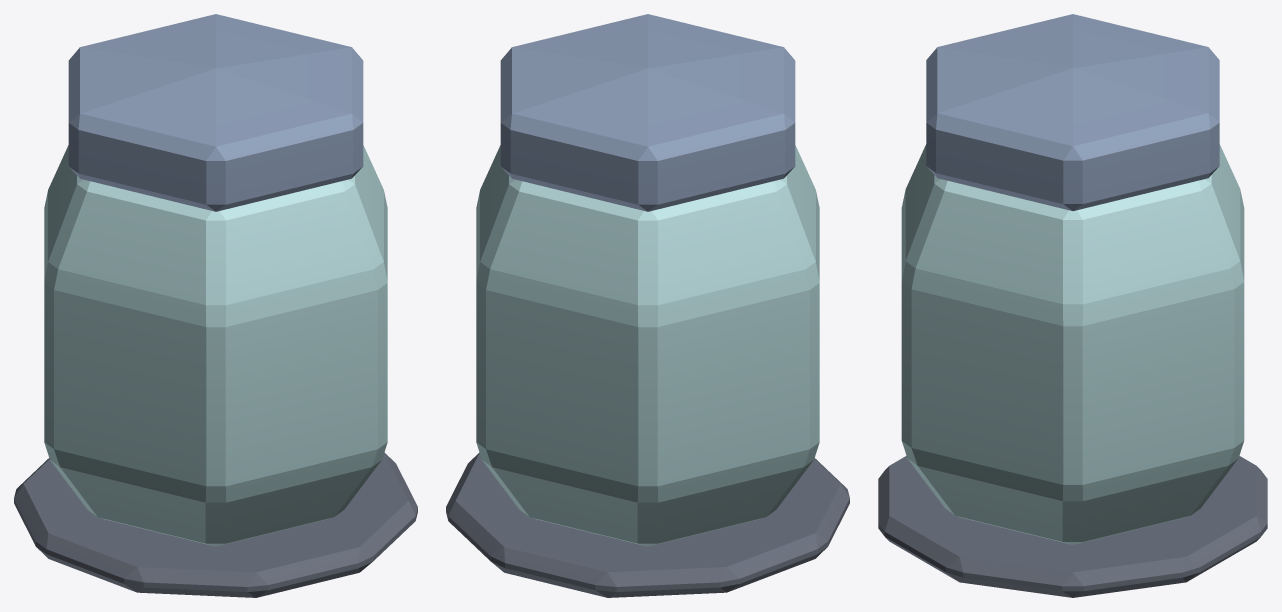
The model's file is specimen_jar.glb.
3 views of the same model, side by side, from view 1: azimuth 30°, elevation 25°; view 2: azimuth 150°, elevation 25°; view 3: azimuth 270°, elevation 25° (orthographic).
Parts seen in each view (by area): view 1: specimen_jar; view 2: specimen_jar; view 3: specimen_jar.
Part boxes in pixels (x1,y1,x2,y2): specimen_jar: (14,14,417,597); specimen_jar: (446,14,849,597); specimen_jar: (878,14,1267,597).
Bounding box in the file's own units: 0.2851 × 0.35 × 0.2758.
1 material, 1 textured.
